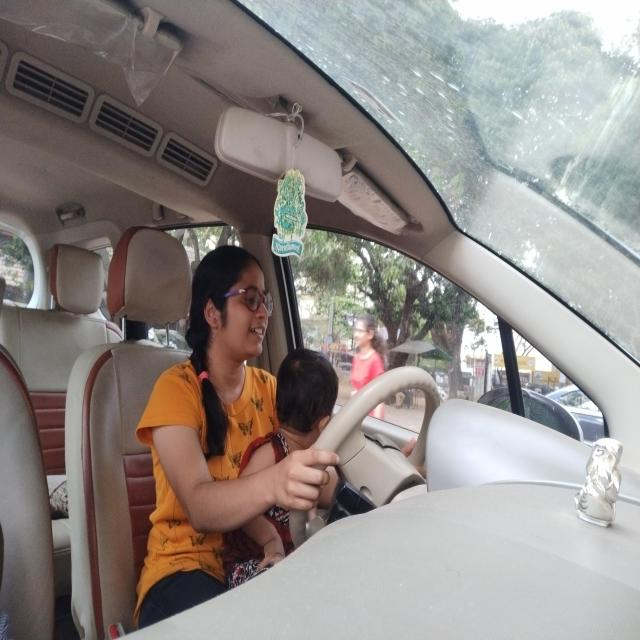child: (268, 344, 340, 447)
person: (188, 243, 274, 364)
